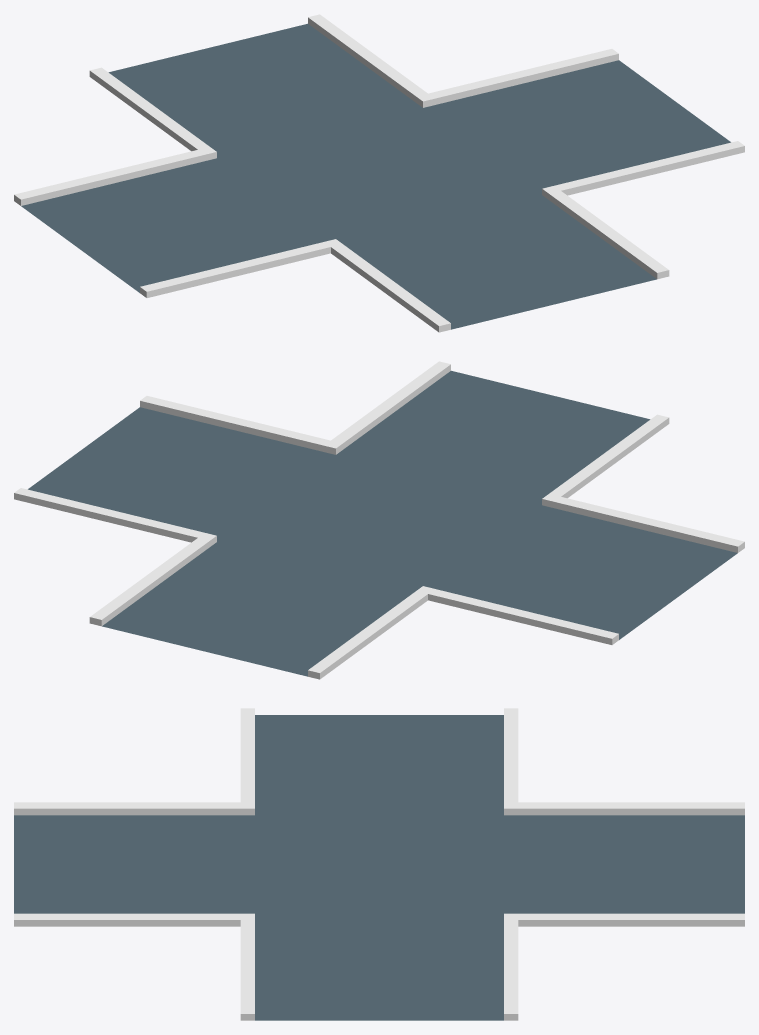
Rendered from Way_Mid.fbx.
3 renders of one model, top to bottom at view 1: azimuth 30°, elevation 25°; view 2: azimuth 150°, elevation 25°; view 3: azimuth 270°, elevation 25°, orthographic. The views are drawn at different scales.
Visible parts, largest first — view 1: Way_Mid; view 2: Way_Mid; view 3: Way_Mid.
Part boxes in pixels (x1=…): Way_Mid: x1=14, y1=14, x2=744, y2=332; Way_Mid: x1=14, y1=361, x2=744, y2=679; Way_Mid: x1=14, y1=708, x2=744, y2=1020.
Bounding box in the file's own units: 1500 × 15.4 × 1517.
